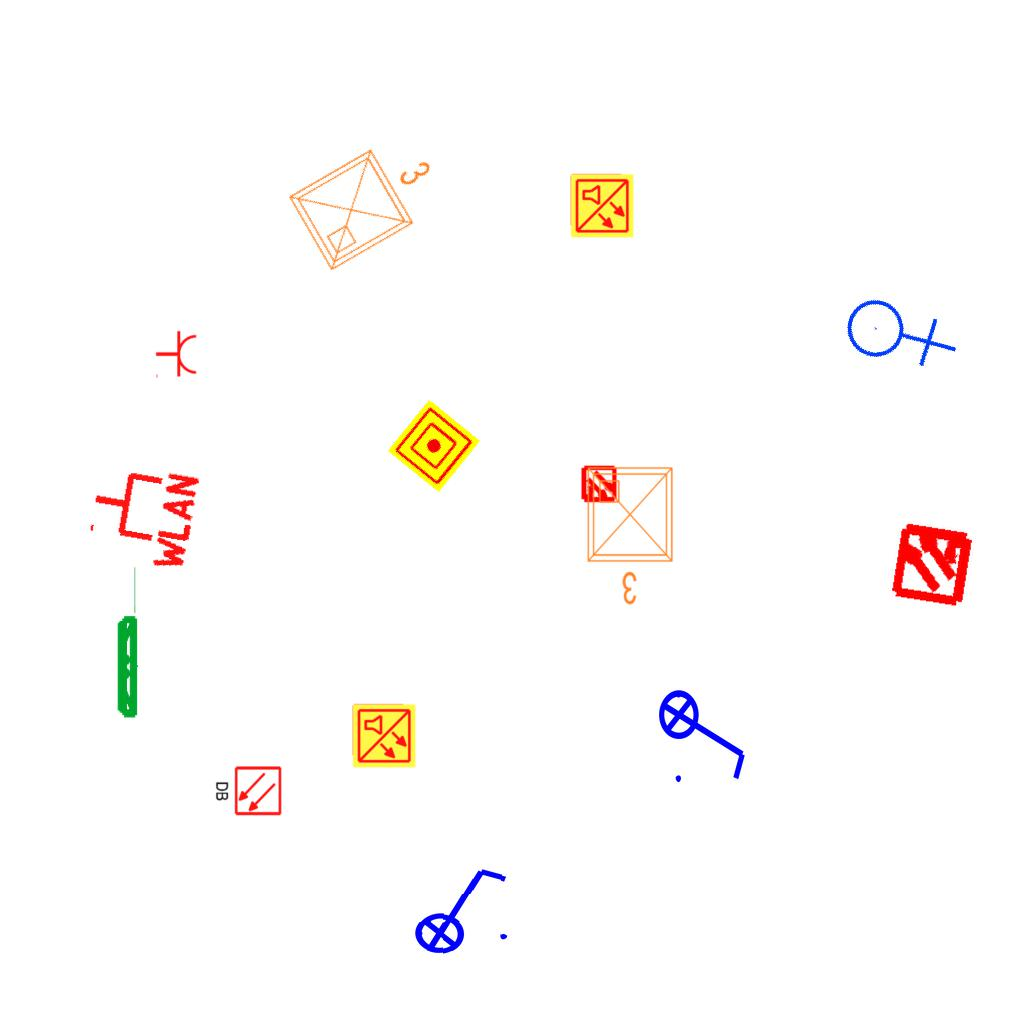Ausschalter_beleuchtet: (400, 858, 516, 958), (657, 676, 753, 788)
DB_Melder_in_Doppelboden_mit_Revisionsoeffnung_mind_40_x_40_cm: (211, 763, 285, 820)
Einbaudownlights_LED_Konferenzraeume: (277, 115, 459, 281), (580, 460, 684, 610)
Elektroanschluss_allgemein_230V_Geraeteanschlussdose_230V: (830, 263, 963, 397)
NAM-Nichtautomatischer_Melder: (387, 399, 481, 493)
OKW_Multisensormelder_(Kombination_optischer_Rauch-Kahlenmonoxid_Waerme-Melder): (351, 703, 417, 769), (569, 173, 635, 239)
OT_Multisensormelder_(Kombination_RMO_WMD): (867, 497, 998, 628), (571, 457, 627, 513)
Schukosteckdose_einfach: (155, 330, 198, 380)
Sicherheitsleuchte_Wandeinbau: (114, 562, 139, 721)
WLAN: (80, 455, 203, 577)
